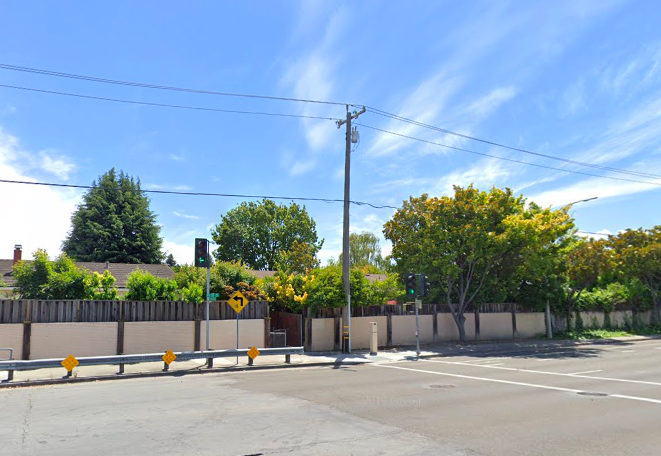tree: (381, 181, 573, 345)
utility_pole: (332, 99, 369, 157)
